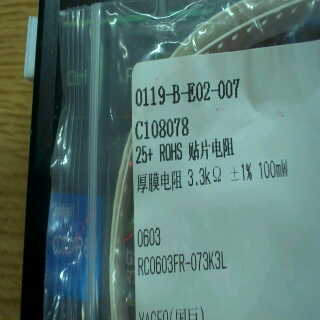3.3kO: (186, 164, 227, 192)
